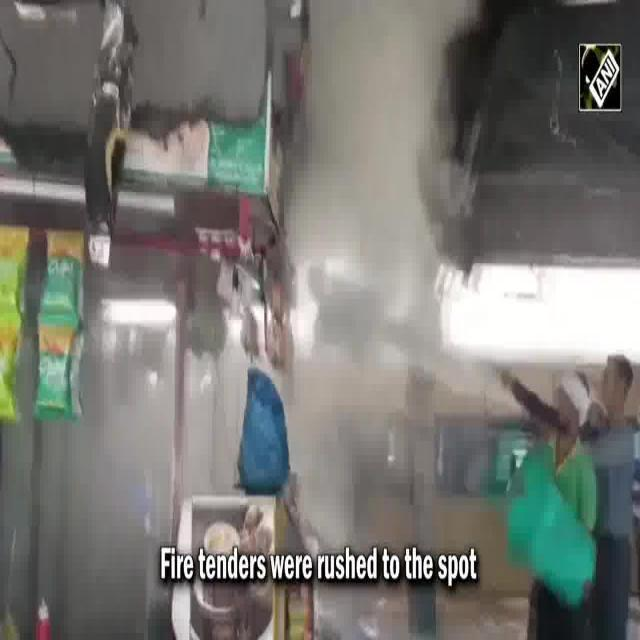Smoke: (309, 2, 435, 326), (54, 434, 144, 590)
